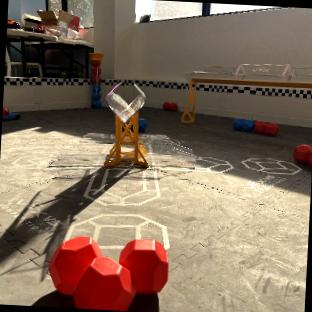V5_BLUE: (233, 119, 253, 131), (138, 118, 146, 131)
V5_RED: (48, 236, 167, 310), (89, 53, 101, 106), (293, 144, 312, 166), (253, 120, 277, 135), (162, 102, 176, 109), (2, 108, 8, 115)
